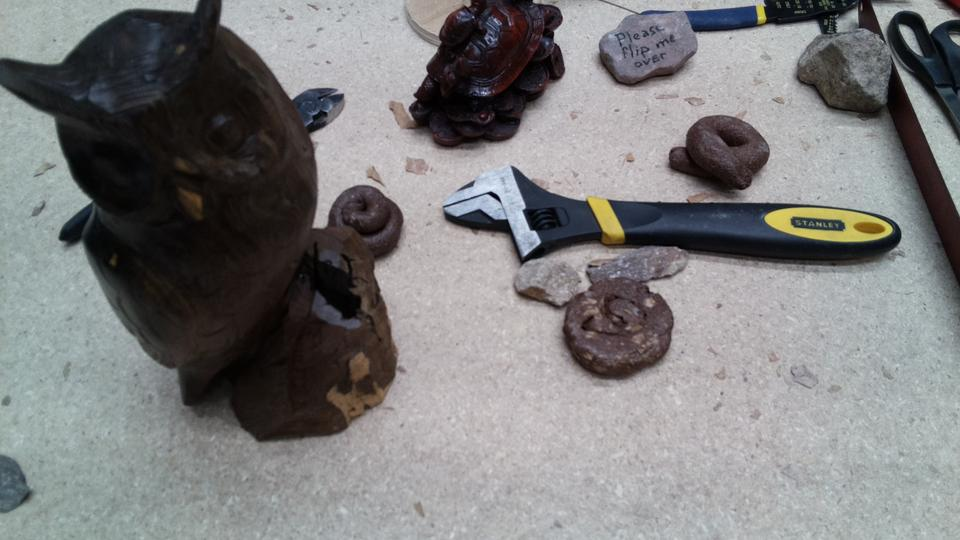poop: (557, 276, 678, 384), (666, 112, 773, 192), (325, 184, 404, 258)
